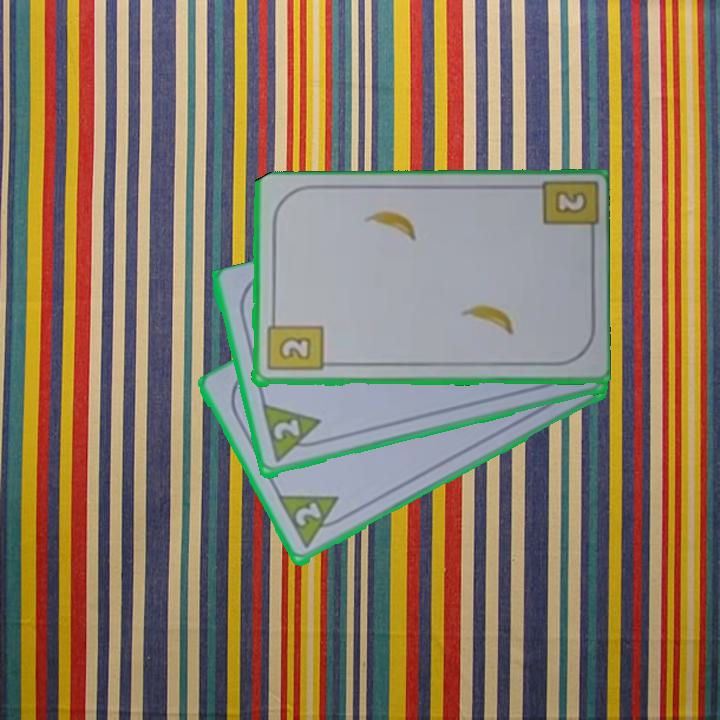2b: (263, 313, 324, 375), (554, 191, 586, 215)
2p: (274, 491, 351, 553), (269, 416, 303, 443)
